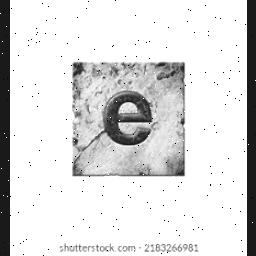e: (101, 88, 153, 156)
